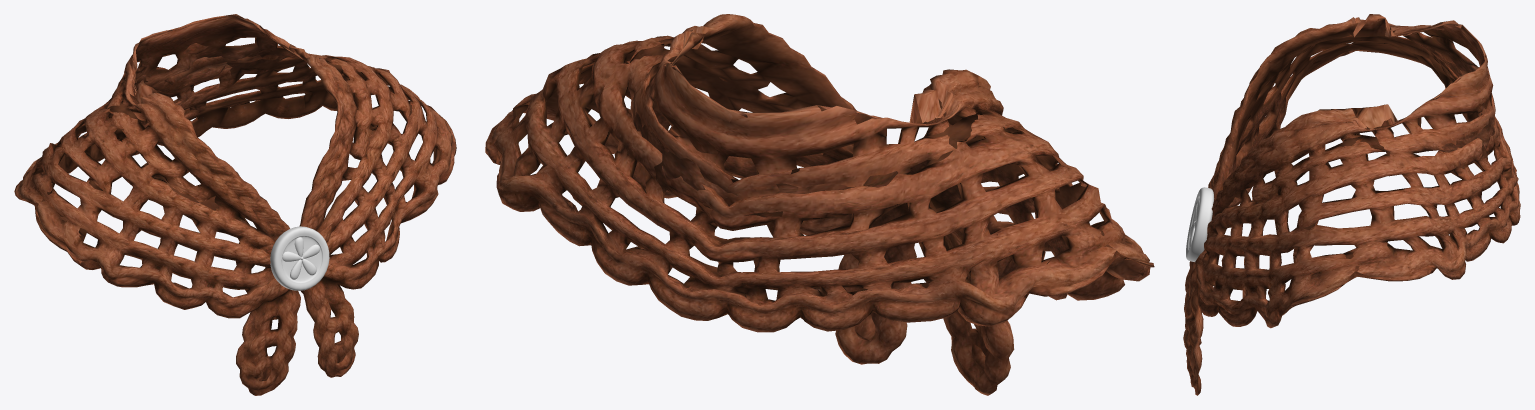
File: Outfit002_Bake_High.fbx
The picture shows the model from 3 angles, left to right: view 1: azimuth 30°, elevation 25°; view 2: azimuth 150°, elevation 25°; view 3: azimuth 270°, elevation 25°; orthographic projection. The views are drawn at different scales.
Parts seen in each view (by area): view 1: Shawl_high, Brooch_high; view 2: Shawl_high; view 3: Shawl_high, Brooch_high.
Boxes of the visible parts, bbox=[...] form: Shawl_high: bbox=[14, 14, 456, 395]; Brooch_high: bbox=[270, 226, 329, 290]; Shawl_high: bbox=[485, 14, 1154, 395]; Shawl_high: bbox=[1183, 14, 1520, 395]; Brooch_high: bbox=[1186, 187, 1214, 261].
Bounding box in the file's own units: 113 × 68.62 × 72.72.
